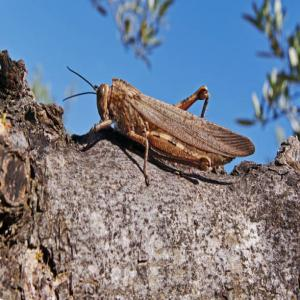locust: (60, 50, 253, 183)
